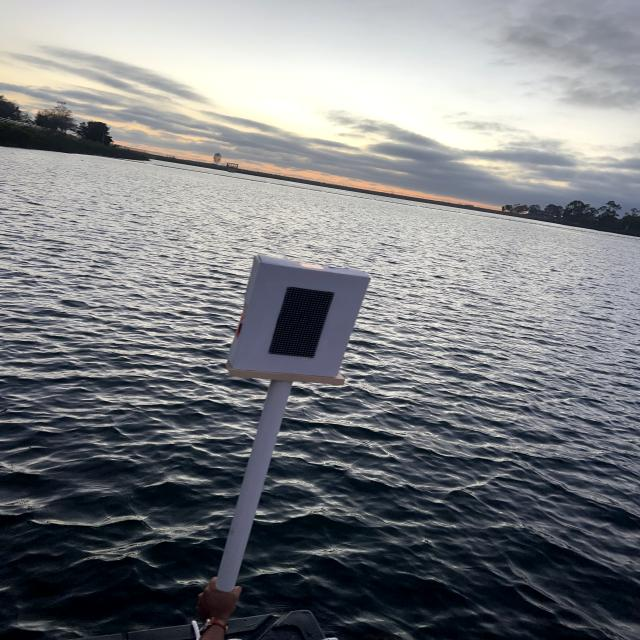led: (251, 278, 341, 375)
